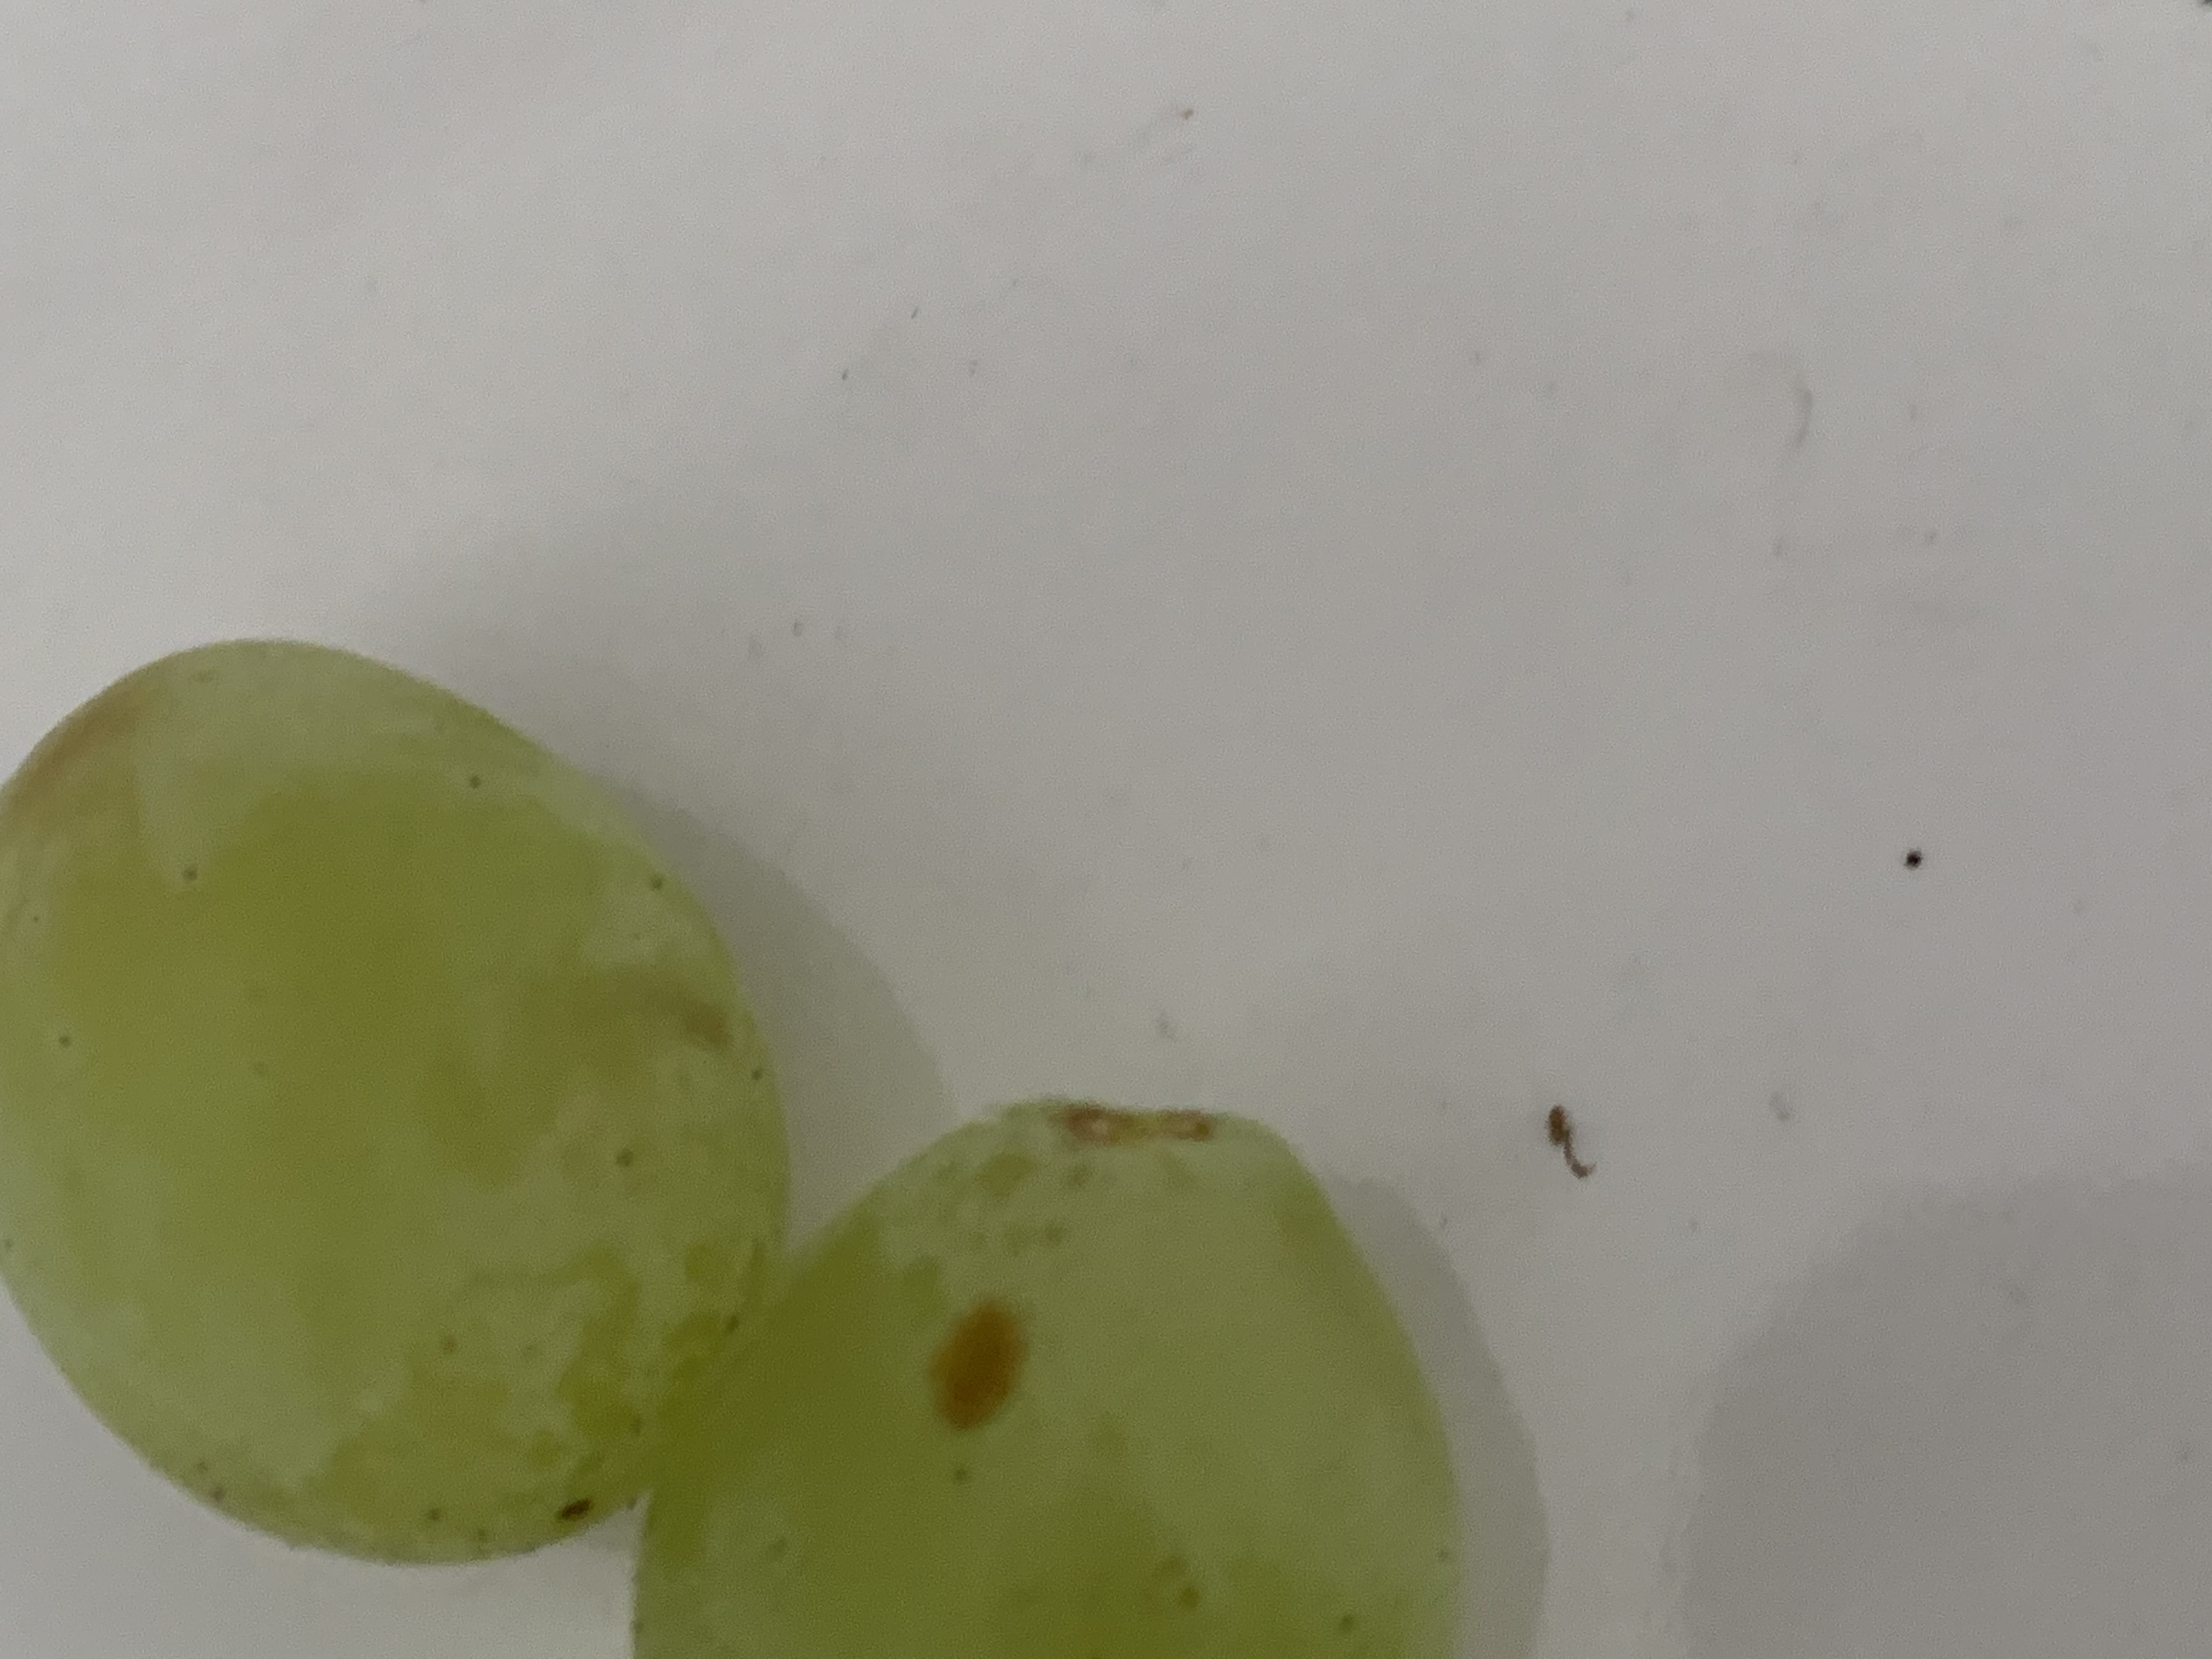grapes: (7, 641, 792, 1563), (632, 1086, 1468, 1659)
